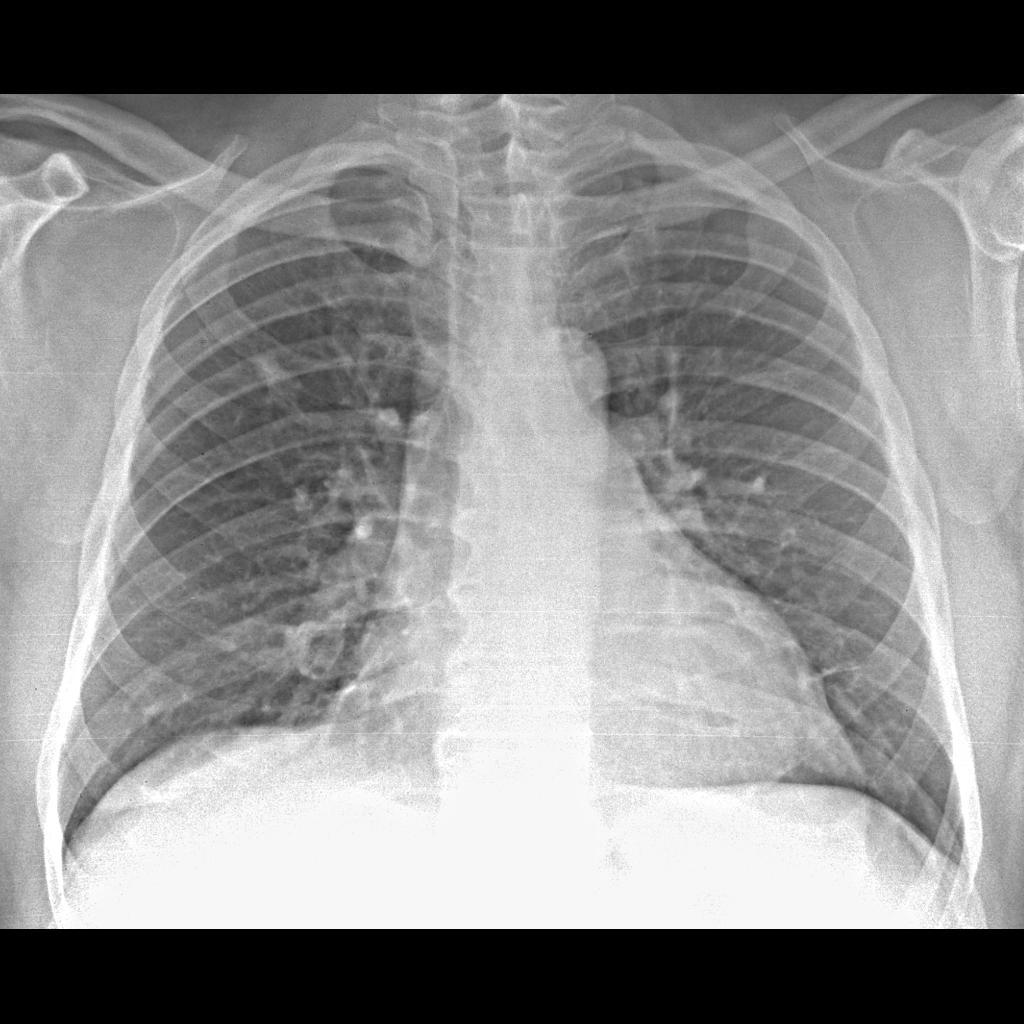Nodule: (269, 592, 360, 693), (241, 340, 323, 427)
